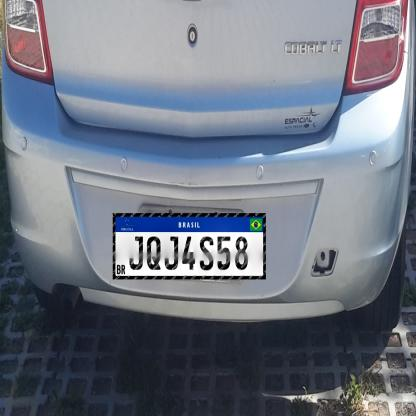PlacaM: (113, 213, 266, 280)
